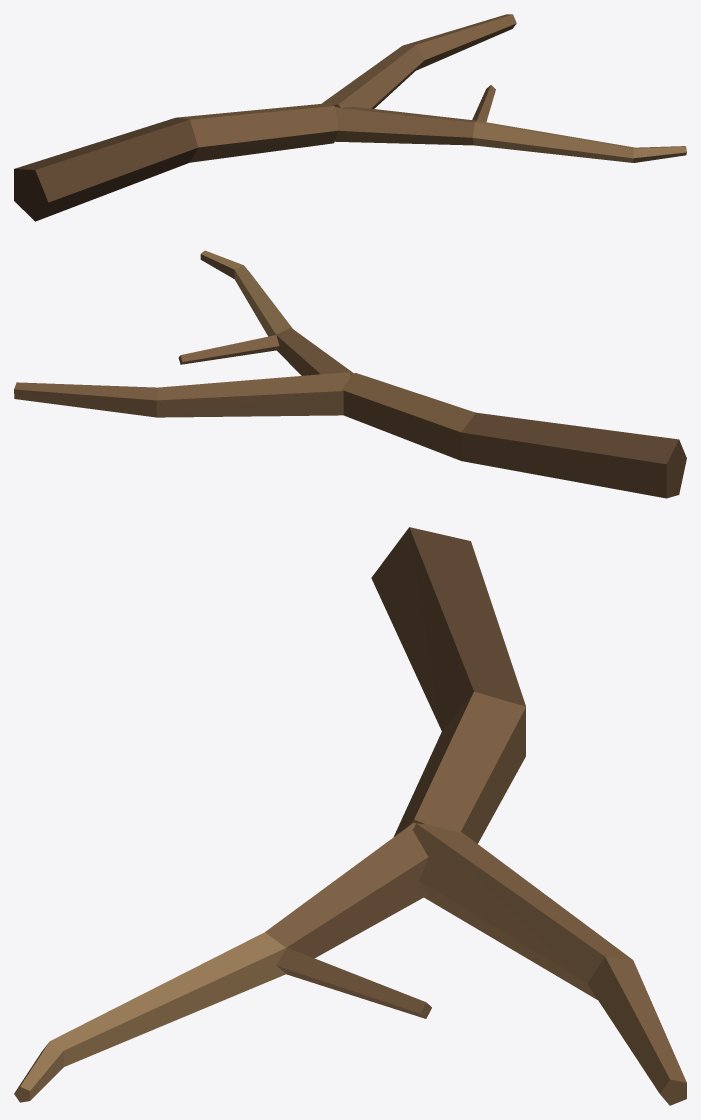
The model's file is GroundDetail_DryTwig_B.fbx.
The picture shows the model from 3 angles, top to bottom: view 1: azimuth 30°, elevation 25°; view 2: azimuth 150°, elevation 25°; view 3: azimuth 270°, elevation 25°; orthographic projection. The views are drawn at different scales.
Visible parts, largest first — view 1: GroundDetail_DryTwig_B; view 2: GroundDetail_DryTwig_B; view 3: GroundDetail_DryTwig_B.
Part boxes in pixels (left/top/right/bottom): GroundDetail_DryTwig_B: left=14, top=14, right=686, bottom=221; GroundDetail_DryTwig_B: left=14, top=250, right=686, bottom=498; GroundDetail_DryTwig_B: left=14, top=527, right=686, bottom=1105.
Bounding box in the file's own units: 0.3836 × 0.0342 × 0.2168.
Materials: 1 (1 with a texture image).
